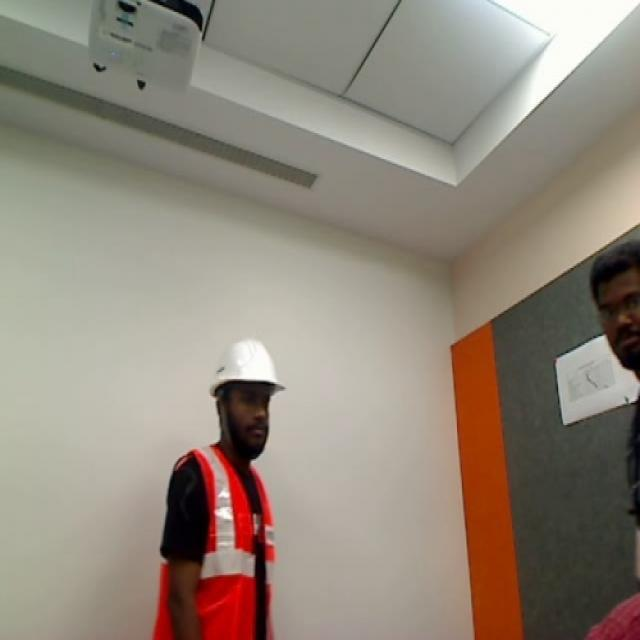safety_helmet: (157, 442, 278, 640)
